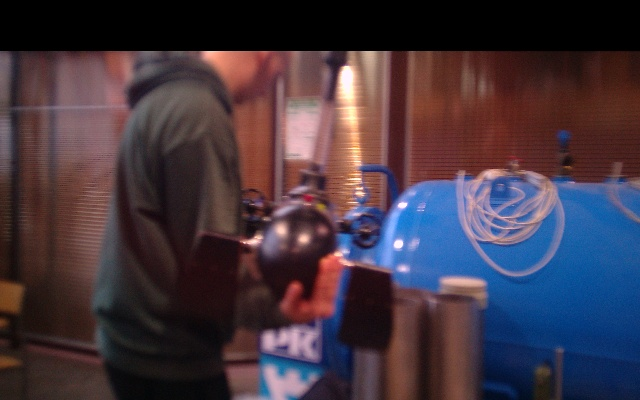black: (310, 95, 338, 172)
